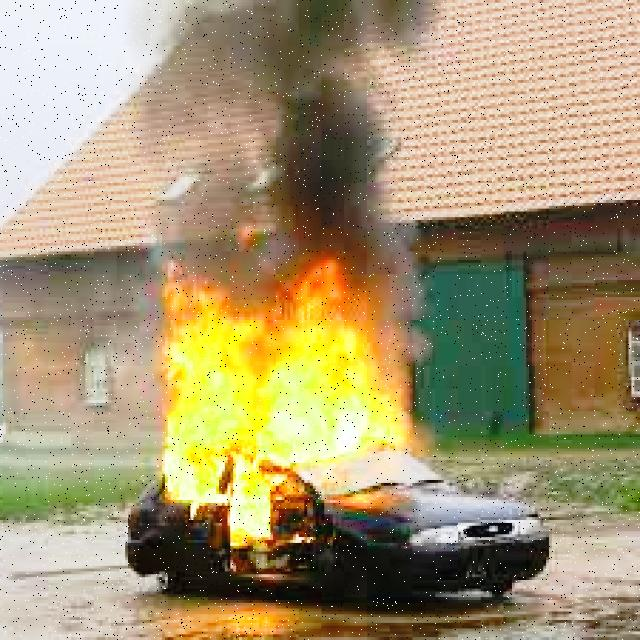api: (126, 244, 416, 512)
